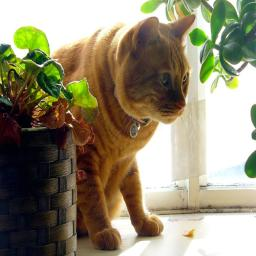catnose: (173, 94, 187, 112)
